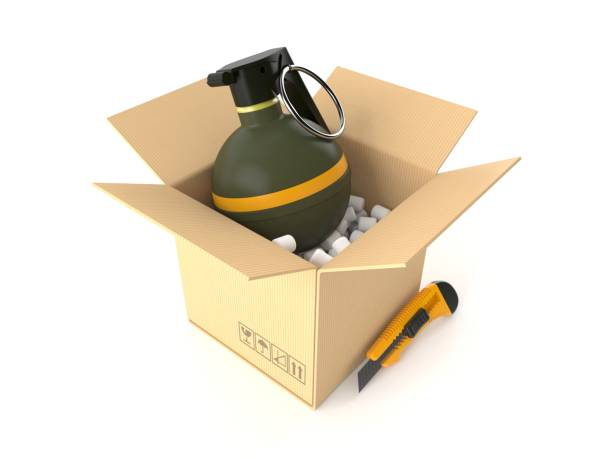e1: (204, 48, 352, 242)
